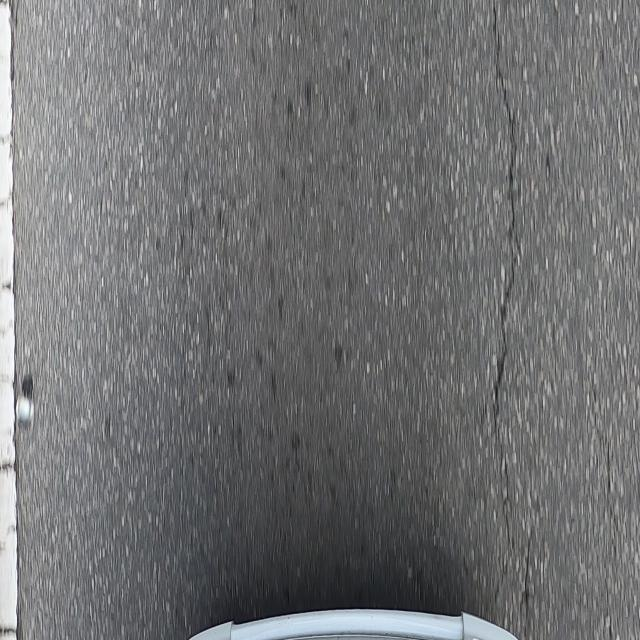Retak-Memanjang: (489, 0, 517, 552)
